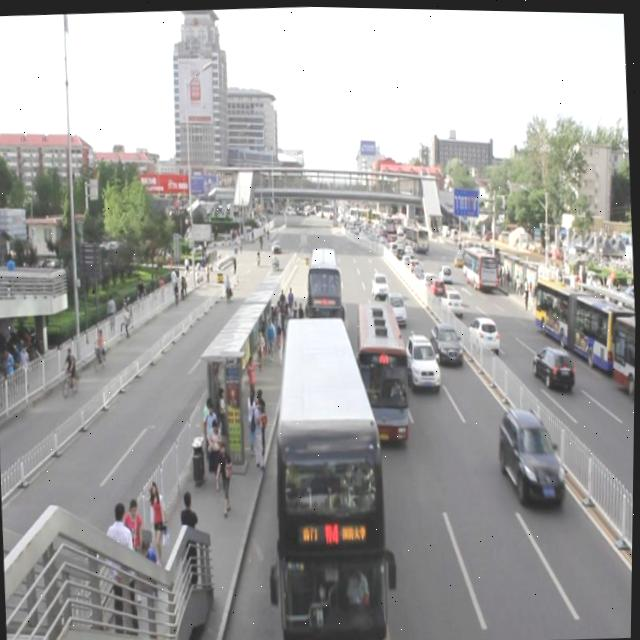car: (492, 399, 572, 516), (402, 326, 445, 394), (428, 315, 467, 366), (381, 289, 410, 324), (368, 264, 390, 298)
van: (253, 308, 407, 640), (348, 294, 418, 446), (299, 240, 350, 331)
